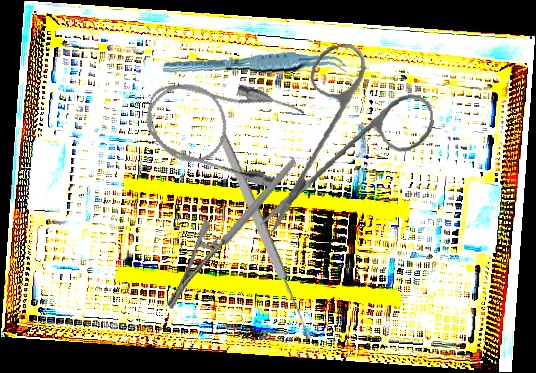Cannula: (136, 61, 307, 192)
Iris Scissors: (242, 36, 444, 233)
Needle Holder: (135, 157, 329, 311)
Surgical Spoon: (216, 133, 315, 342)
Tissue Forceps: (162, 40, 349, 89)
